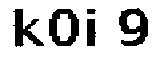0: (49, 6, 80, 48)
9: (116, 7, 150, 52)
i: (85, 6, 102, 52)
k: (7, 5, 46, 50)
